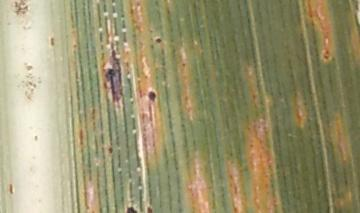tarspot: (104, 50, 123, 102), (125, 205, 138, 213), (147, 91, 157, 101), (107, 145, 115, 153), (146, 205, 154, 213), (154, 36, 163, 43), (181, 62, 187, 68), (325, 49, 330, 56), (324, 55, 329, 61)
